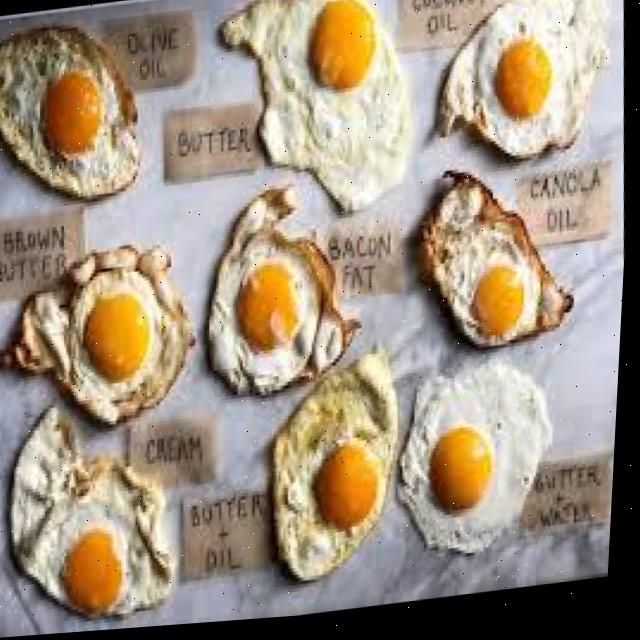Egg: (224, 0, 413, 216), (3, 253, 198, 425), (19, 408, 179, 617), (212, 192, 362, 398), (405, 369, 557, 558), (280, 357, 403, 585), (441, 7, 610, 164), (425, 178, 576, 351), (0, 29, 138, 200)
